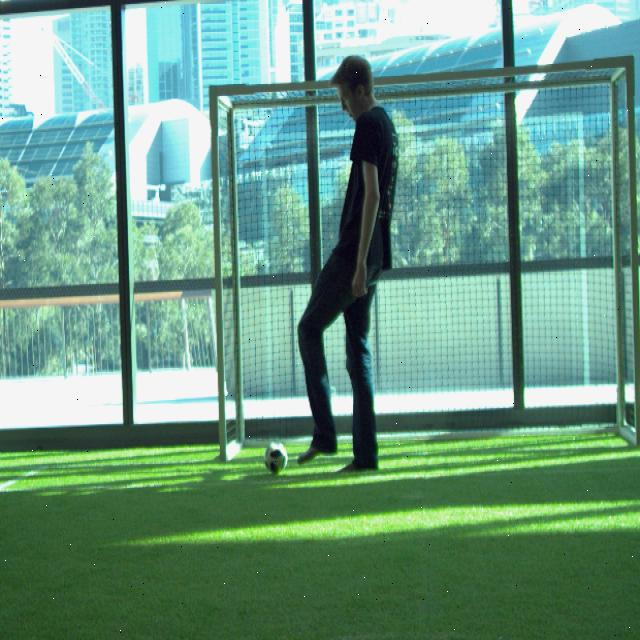ball: (265, 442, 289, 474)
goalpost: (211, 84, 228, 459), (625, 53, 640, 443)
